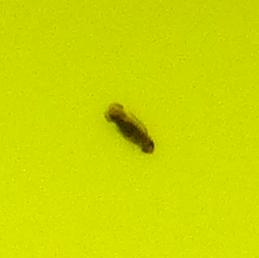Hemiptera: (100, 100, 159, 158)
